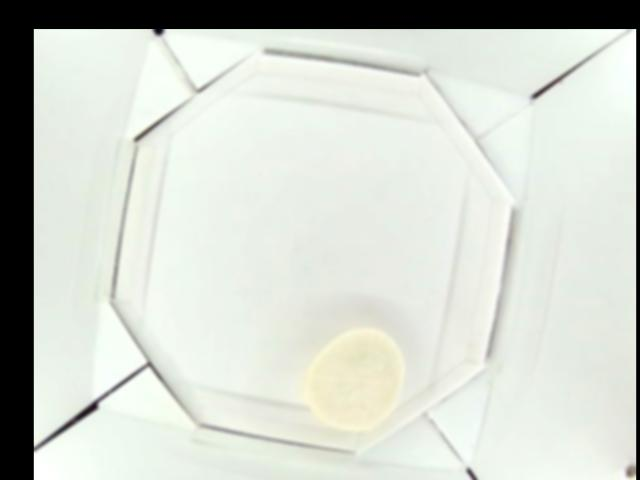Mooli: (303, 327, 404, 430)
